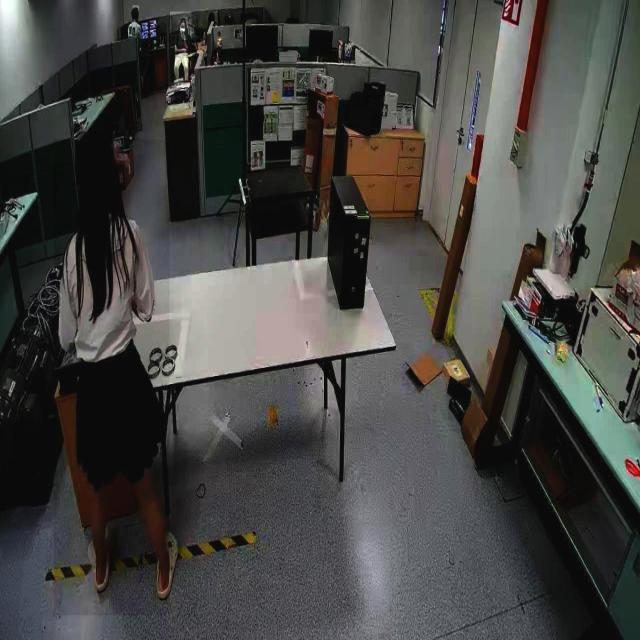face_mask: (179, 20, 187, 40)
head_nohelmet: (74, 132, 114, 172), (132, 5, 139, 14), (180, 17, 188, 22)
person: (54, 140, 170, 616), (170, 12, 192, 88)
